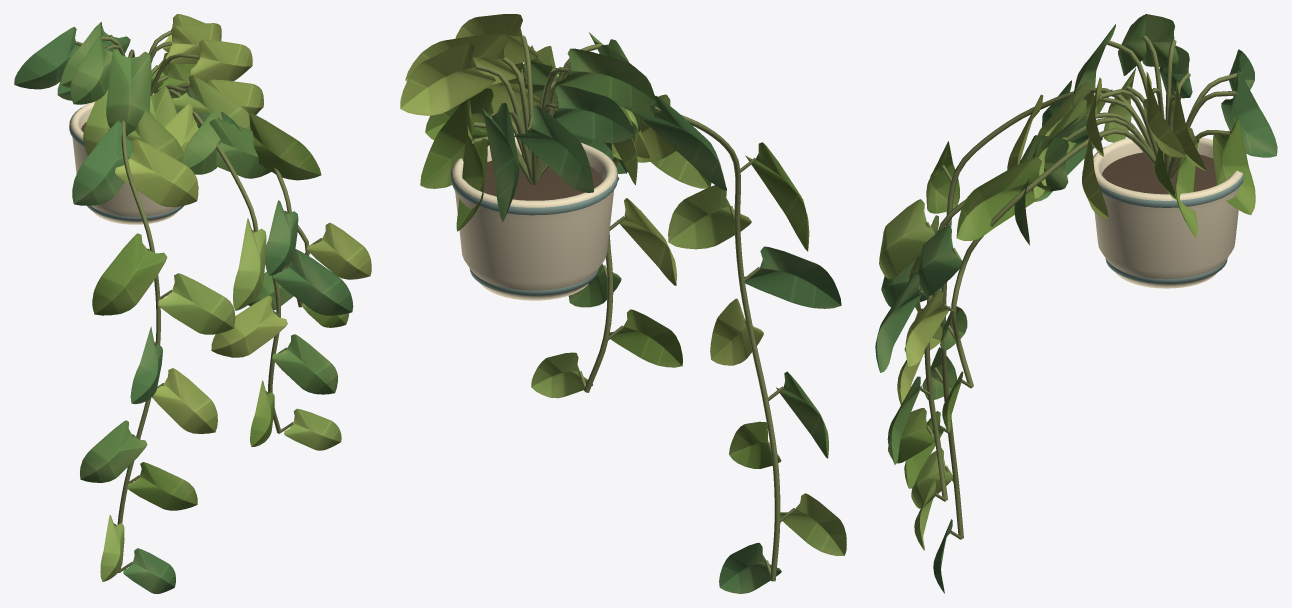
File: family-trailing-pothos-v1.glb
3 views of the same model, side by side, from view 1: azimuth 30°, elevation 25°; view 2: azimuth 150°, elevation 25°; view 3: azimuth 270°, elevation 25° (orthographic). The views are drawn at different scales.
Visible parts, largest first — view 1: Heart shaped foliage, Trailing stems, Glazed stoneware; view 2: Heart shaped foliage, Glazed stoneware, Trailing stems, Potting soil, Celadon rim, Celadon foot ring; view 3: Heart shaped foliage, Glazed stoneware, Trailing stems, Potting soil, Celadon rim, Celadon foot ring.
Boxes of the visible parts, x1,y1,x2,y2 form: Heart shaped foliage: (14,14,371,593); Trailing stems: (75,30,321,572); Glazed stoneware: (70,101,178,224); Heart shaped foliage: (400,14,846,593); Glazed stoneware: (452,137,616,300); Trailing stems: (471,35,795,581); Potting soil: (484,155,602,200); Celadon rim: (451,166,617,215); Celadon foot ring: (469,268,599,295); Heart shaped foliage: (875,14,1277,593); Glazed stoneware: (1093,135,1242,288); Trailing stems: (919,35,1241,539); Potting soil: (1102,152,1216,194); Celadon rim: (1098,174,1243,207); Celadon foot ring: (1105,258,1227,283).
Size of the model in its own units: 0.3979 by 0.6907 by 0.4281.
